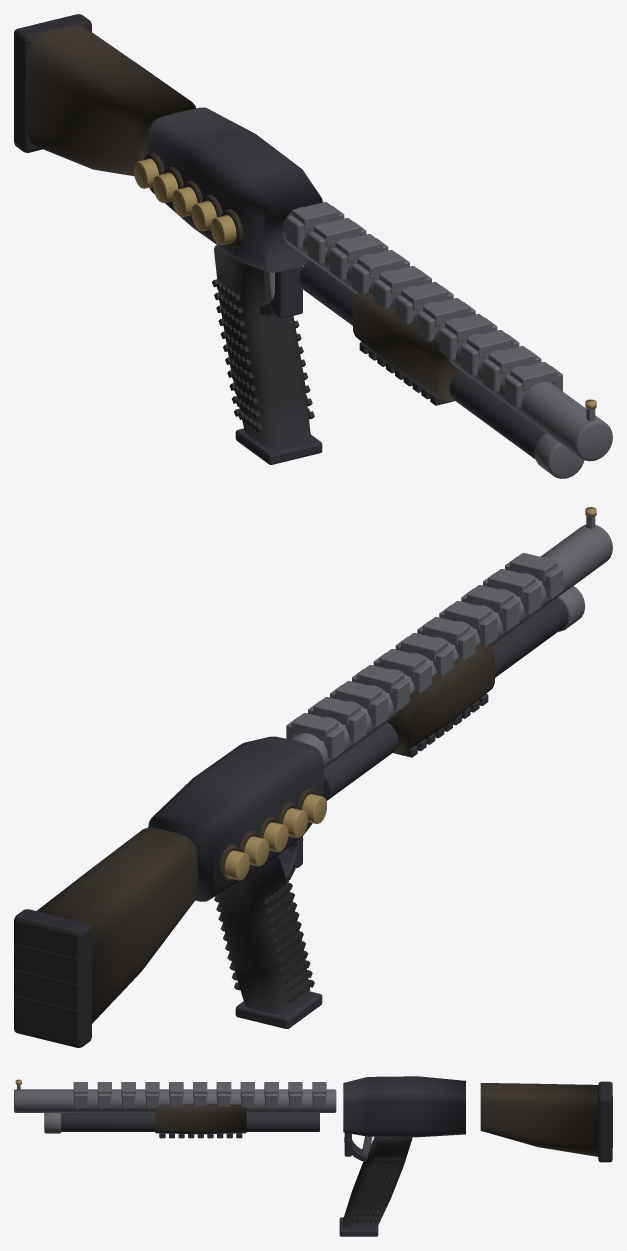
Rendered from weapon_shotgun_02_v1.glb.
3 views of the same model, one above another, from view 1: azimuth 30°, elevation 25°; view 2: azimuth 150°, elevation 25°; view 3: azimuth 270°, elevation 25° (orthographic). The views are drawn at different scales.
Parts seen in each view (by area): view 1: shotgun_02; view 2: shotgun_02; view 3: shotgun_02.
Boxes of the visible parts, x1,y1,x2,y2 form: shotgun_02: (14,14,612,478); shotgun_02: (14,507,612,1047); shotgun_02: (14,1076,612,1236).
Bounding box in the file's own units: 0.046 × 0.1369 × 0.4982.
